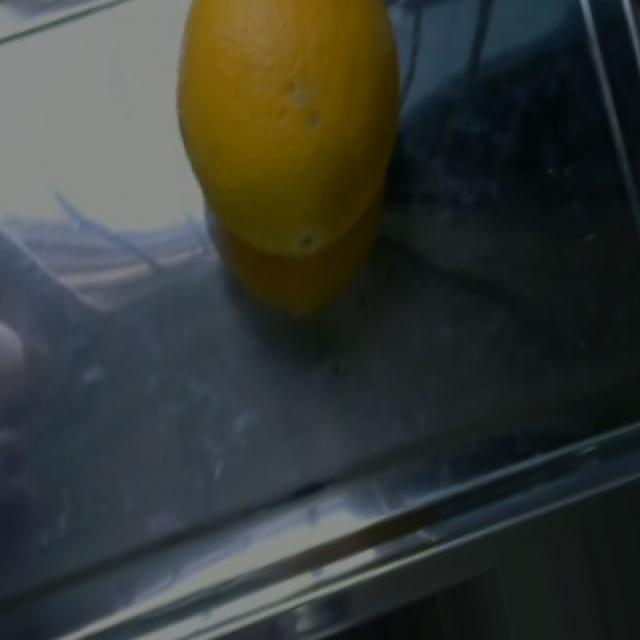Fruit: (156, 0, 427, 326)
